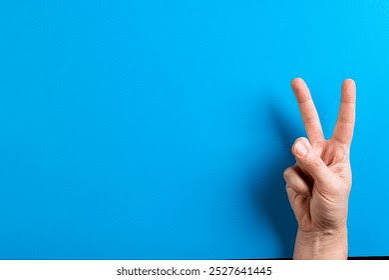peace_sign: (279, 69, 364, 230)
